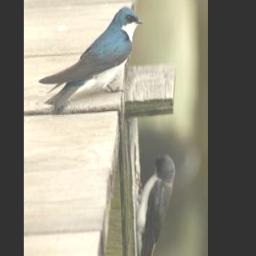Swallow: (39, 5, 143, 109)
